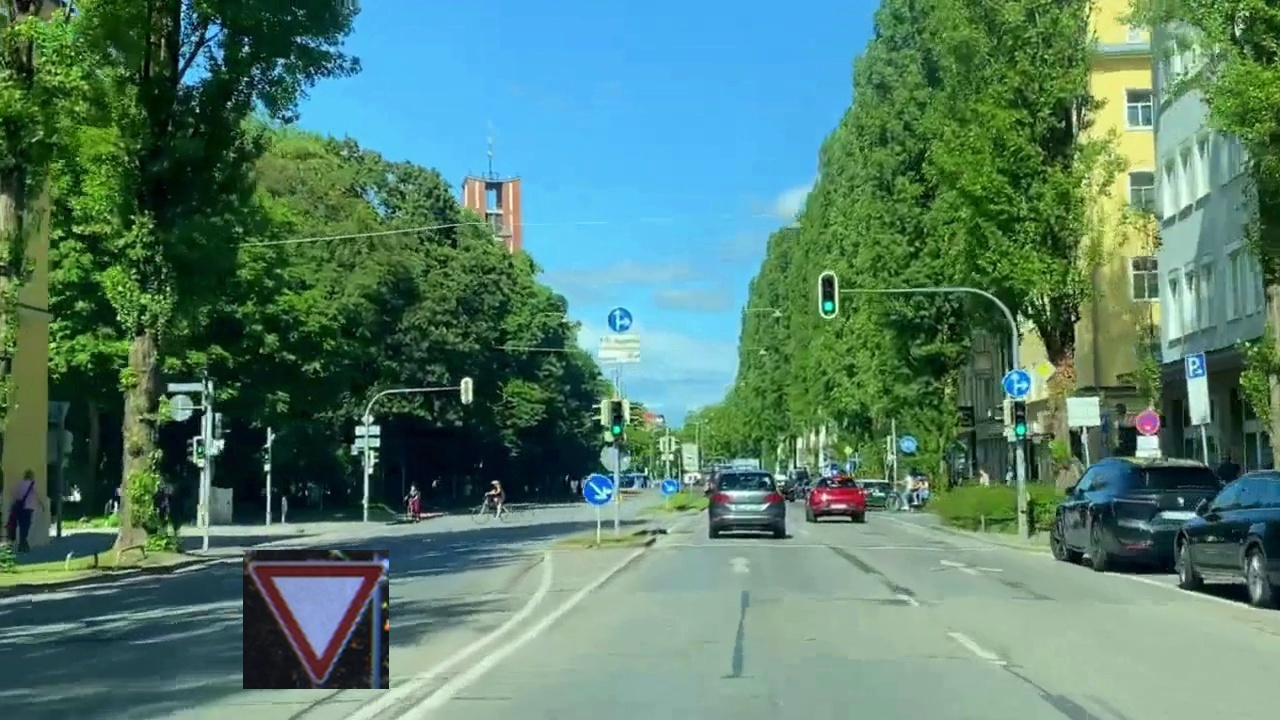Yield: (243, 550, 389, 689)
